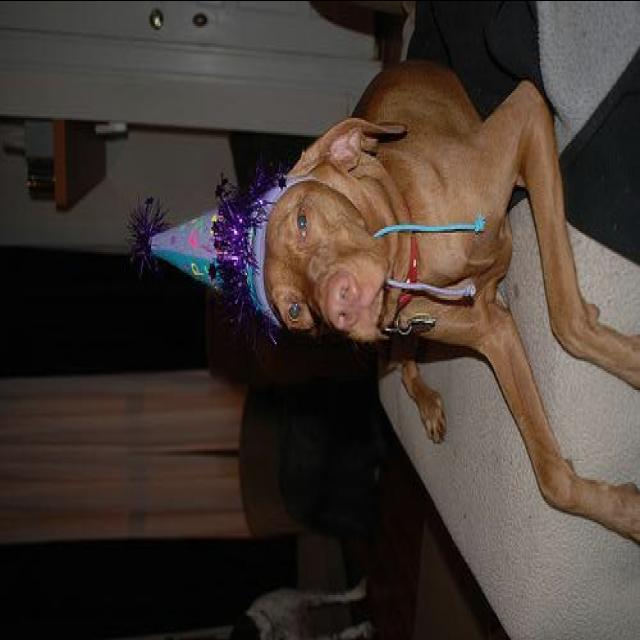vizsla: (260, 59, 638, 544)
